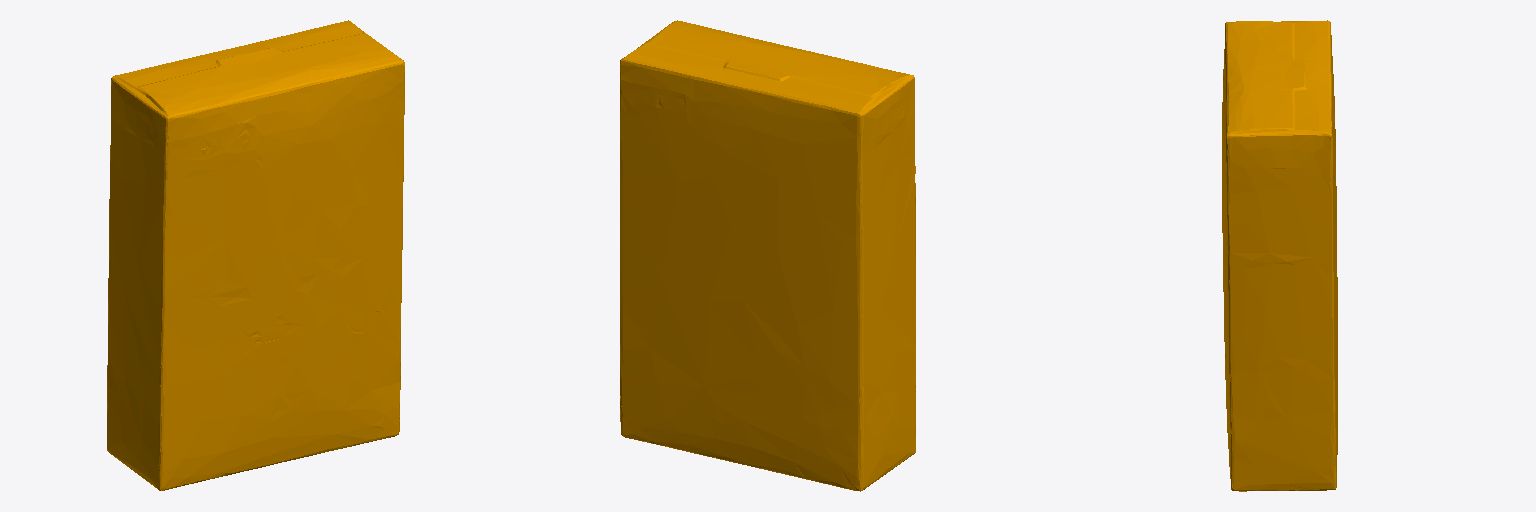
The robot description file, URDF, robot "VANS_FIRE_ROASTED_VEGGIE_CRACKERS_GLUTEN_FREE":

<robot name="VANS_FIRE_ROASTED_VEGGIE_CRACKERS_GLUTEN_FREE">
    <link name="base">
        <inertial>
            <origin xyz="2.766782877432846e-18 -1.7292392983955287e-18 0.0" />
            <mass value="0.0016327660145903811" />
            <inertia ixx="6.20582461823159e-06" ixy="-1.5389272784450488e-09" 
                     ixz="-2.5161077704556712e-08" iyy="8.317265444315217e-06" 
                     iyz="6.693246467337723e-08" izz="2.99553317948349e-06" />
        </inertial>
        <visual>
            <origin xyz="0 0 0" />
            <geometry>
                <mesh filename="visual_geometry.obj" />
            </geometry>
        </visual>
        <collision>
            <origin xyz="0 0 0" />
            <geometry>
                <mesh filename="collision_geometry.obj" />
            </geometry>
        </collision>
    </link>
</robot>

--- What the picture shows (computed from the rendered views, not written in the file) ---
The picture shows the robot from 3 angles, left to right: view 1: azimuth 30°, elevation 25°; view 2: azimuth 150°, elevation 25°; view 3: azimuth 270°, elevation 25°; orthographic projection.
Robot: VANS_FIRE_ROASTED_VEGGIE_CRACKERS_GLUTEN_FREE — 1 links, 0 joints (none); root link base; default pose: all joints at 0.
Links seen in each view (by area): view 1: base; view 2: base; view 3: base.
Link boxes in pixels (x1,y1,x2,y2): base: (107,20,404,490); base: (620,20,915,491); base: (1222,20,1337,491).
Size in the robot's own frame: 0.1401 by 0.0603 by 0.2092 metres.
1 mesh visuals loaded from 1 distinct referenced files (1 OBJ).